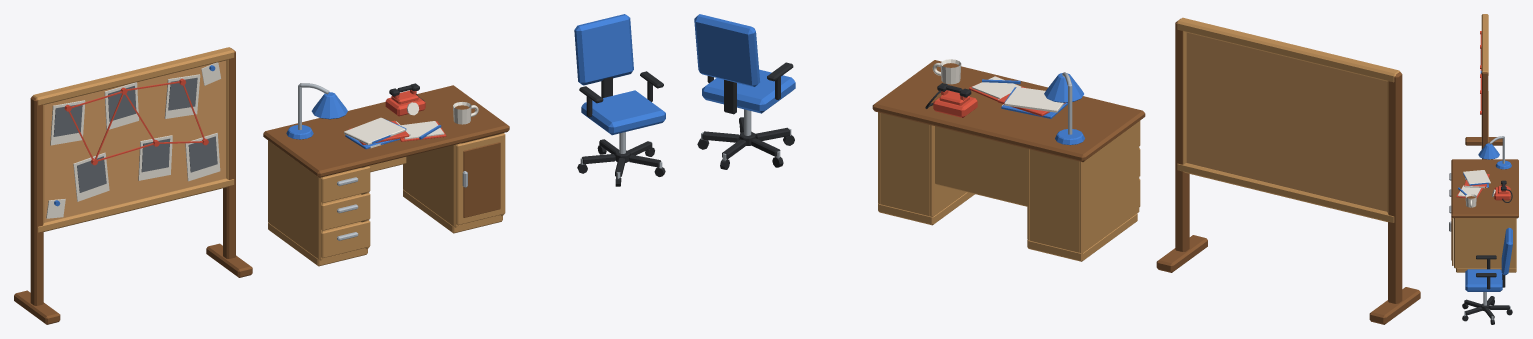
The model's file is detective-desk-set.glb.
The picture shows the model from 3 angles, left to right: view 1: azimuth 30°, elevation 25°; view 2: azimuth 150°, elevation 25°; view 3: azimuth 270°, elevation 25°; orthographic projection. The views are drawn at different scales.
Visible parts, largest first — view 1: Board_Cork, Desk_Top, Desk_Side_La, Chair_Back, Desk_Side_Ra, Board_Post_L, Board_Frame_Top, CabinetDoor_Panel, ChairSeat, Board_Frame_Bottom, Board_Post_R, CabinetDoor (+22 smaller); view 2: Board_Cork, Desk_Top, Desk_Side_La, Desk_Modesty, Desk_Back_L, Desk_Back_R, Chair_Back, Board_Post_L, Board_Frame_Top, Board_Post_R, Board_Frame_Bottom, ChairSeat (+10 smaller); view 3: Desk_Top, Desk_Side_Rb, ChairSeat, Board_Post_R, Board_Frame_Top, Chair_Back, Folder_3, Lamp_Shade, Board_Foot_L, Folder_Open_Paper, Phone_Body, Desk_Plinth_R (+12 smaller).
Boxes of the visible parts, bbox=[...] form: Board_Cork: bbox=[44, 60, 225, 222]; Desk_Top: bbox=[263, 85, 509, 177]; Desk_Side_La: bbox=[268, 140, 322, 260]; Chair_Back: bbox=[574, 14, 633, 85]; Desk_Side_Ra: bbox=[403, 144, 457, 227]; Board_Post_L: bbox=[30, 96, 43, 305]; Board_Frame_Top: bbox=[33, 47, 234, 105]; CabinetDoor_Panel: bbox=[463, 142, 500, 217]; ChairSeat: bbox=[581, 90, 665, 135]; Board_Frame_Bottom: bbox=[38, 178, 234, 232]; Board_Post_R: bbox=[223, 48, 235, 258]; CabinetDoor: bbox=[456, 133, 505, 225]; Board_Cork: bbox=[1186, 32, 1387, 211]; Desk_Top: bbox=[872, 60, 1145, 162]; Desk_Side_La: bbox=[1079, 121, 1139, 253]; Desk_Modesty: bbox=[935, 126, 1027, 206]; Desk_Back_L: bbox=[1030, 149, 1079, 252]; Desk_Back_R: bbox=[880, 113, 929, 216]; Chair_Back: bbox=[694, 14, 759, 86]; Board_Post_L: bbox=[1388, 72, 1402, 303]; Board_Frame_Top: bbox=[1177, 17, 1400, 82]; Board_Post_R: bbox=[1175, 18, 1189, 251]; Board_Frame_Bottom: bbox=[1177, 163, 1394, 222]; ChairSeat: bbox=[702, 69, 795, 113]; Desk_Top: bbox=[1451, 159, 1518, 218]; Desk_Side_Rb: bbox=[1454, 218, 1516, 268]; ChairSeat: bbox=[1465, 269, 1502, 291]; Board_Post_R: bbox=[1482, 72, 1488, 159]; Board_Frame_Top: bbox=[1481, 14, 1488, 75]; Chair_Back: bbox=[1501, 227, 1512, 275]; Folder_3: bbox=[1463, 170, 1490, 184]; Lamp_Shade: bbox=[1478, 143, 1499, 159]; Board_Foot_L: bbox=[1465, 137, 1502, 145]; Folder_Open_Paper: bbox=[1458, 185, 1481, 196]; Phone_Body: bbox=[1494, 187, 1510, 200]; Desk_Plinth_R: bbox=[1456, 268, 1516, 272].
Bounding box in the file's own units: 18.72 × 6.13 × 3.
